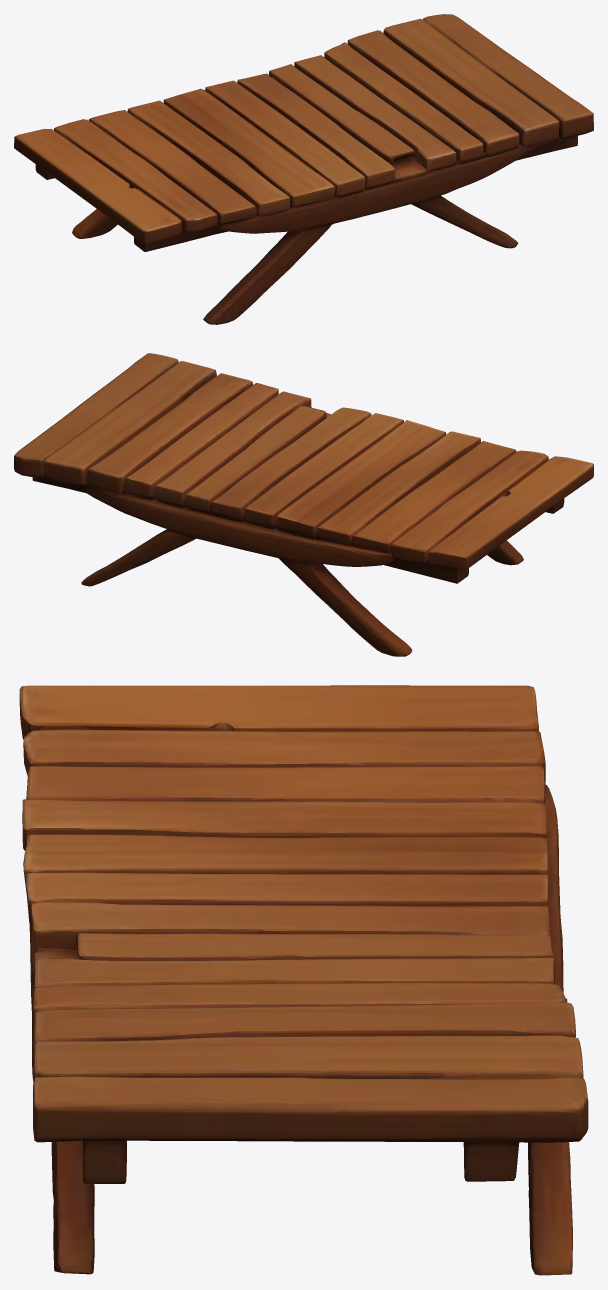
File: dock_path.glb
The picture shows the model from 3 angles, top to bottom: view 1: azimuth 30°, elevation 25°; view 2: azimuth 150°, elevation 25°; view 3: azimuth 270°, elevation 25°; orthographic projection. The views are drawn at different scales.
Parts seen in each view (by area): view 1: world; view 2: world; view 3: world.
Part boxes in pixels (x1,y1,x2,y2): world: [14, 14, 593, 324]; world: [14, 353, 593, 656]; world: [19, 685, 588, 1275].
Bounding box in the file's own units: 1 × 0.2593 × 0.5547.
1 material, 1 textured.
